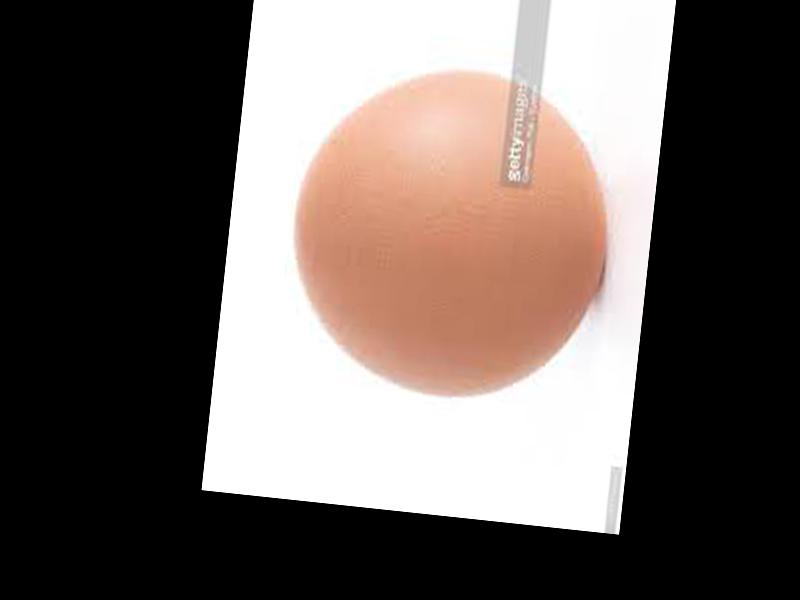Eggs: (277, 53, 616, 410)
